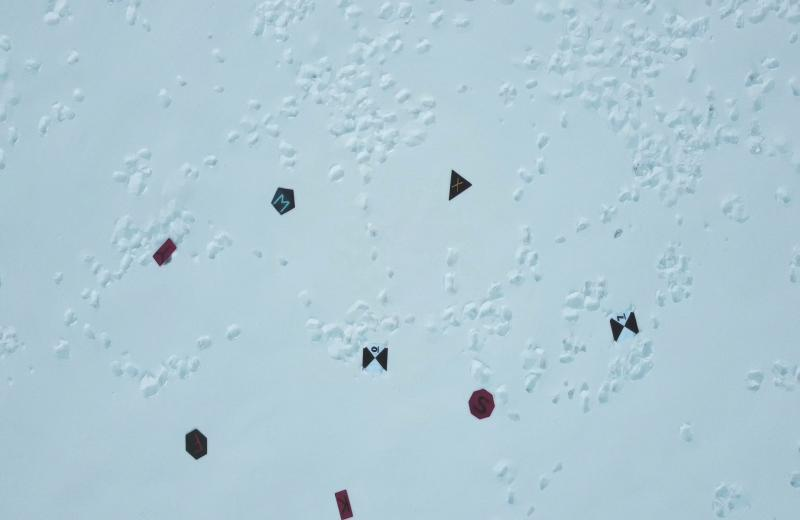Hexagon: (181, 424, 211, 463)
Octagon: (464, 386, 496, 422)
Pentagon: (266, 183, 298, 217)
Rectangle: (150, 233, 179, 271), (330, 485, 356, 520)
Triangle: (443, 166, 475, 205)
